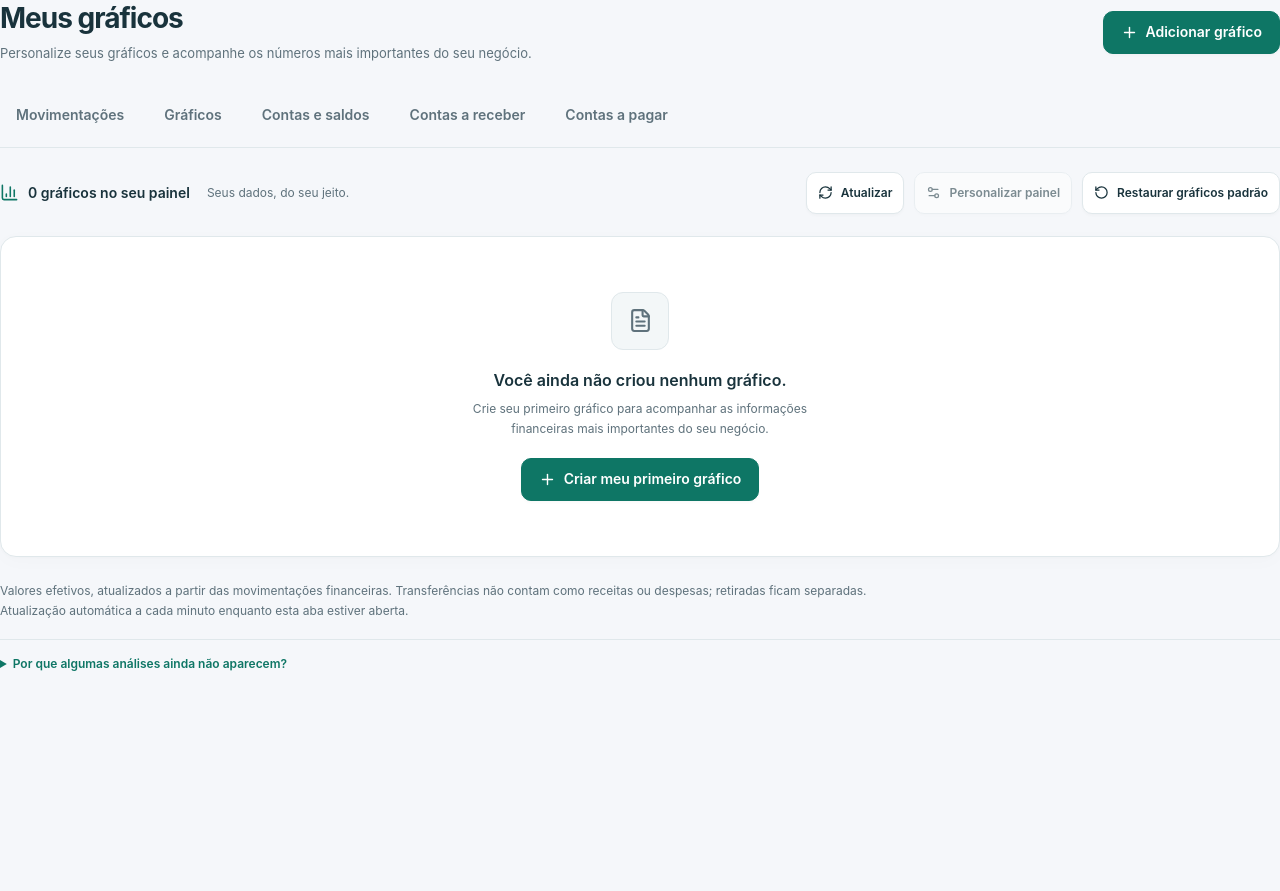
Test: saved chart panel › confirms restoration and preserves financial movements
The image size is (1280, 891).
Click the button "Restaurar gráficos padrão". click: [1181, 193]
box: top-left (1082, 172), bottom-right (1279, 214)
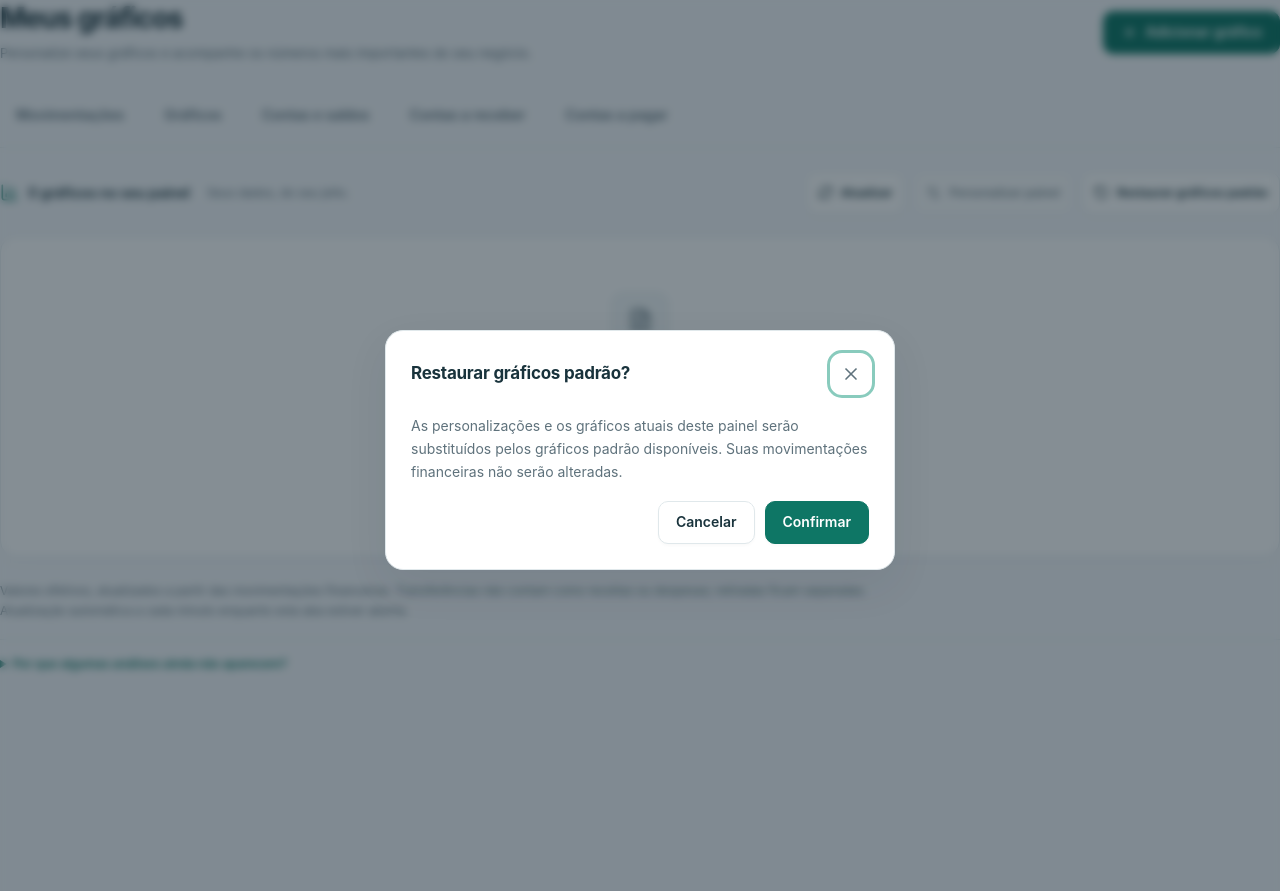
Result: the text "Suas movimentações financeiras não serão alteradas" is shown at top-left (411, 417), bottom-right (867, 480)
Click the button "Confirmar". click: [817, 523]
box: top-left (764, 501), bottom-right (869, 544)
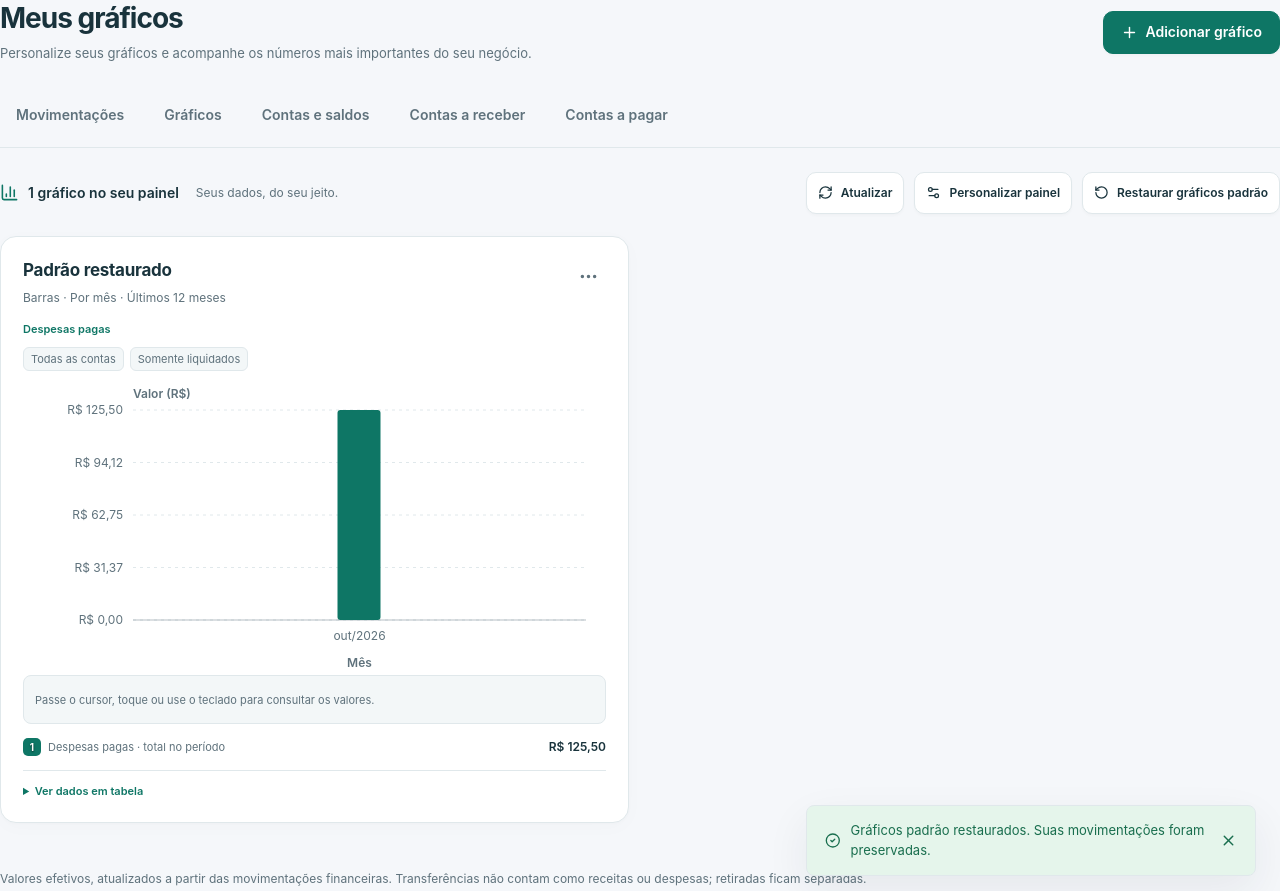
Result: the element "Padrão restaurado" is shown at top-left (0, 236), bottom-right (629, 823)
